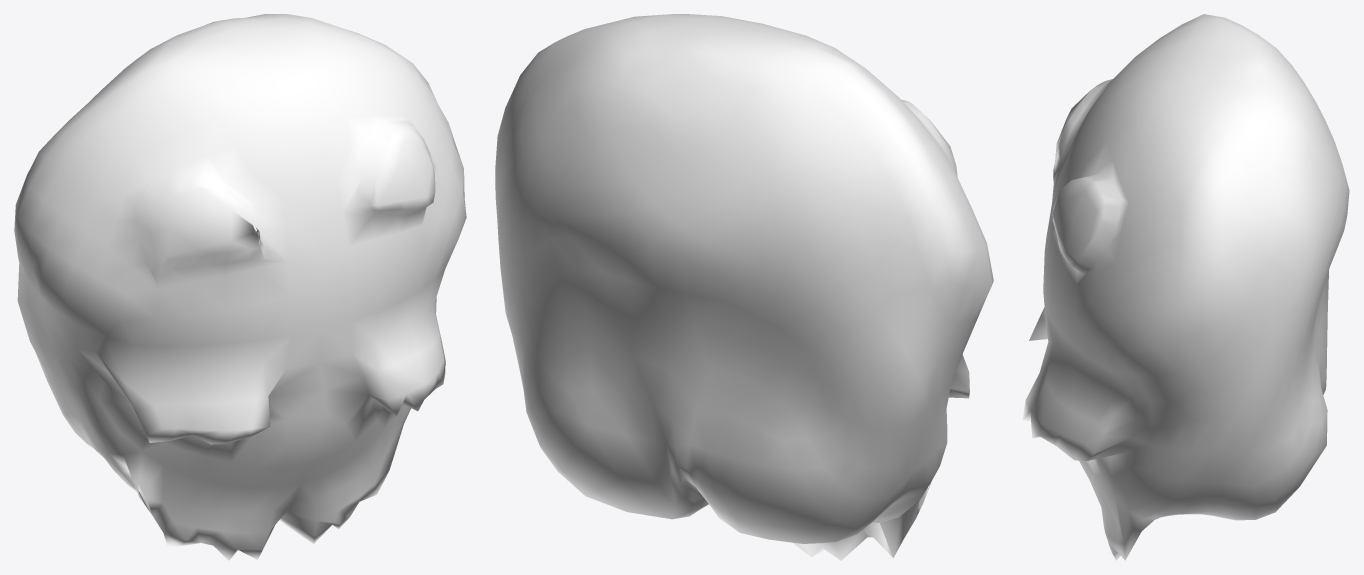
Rendered from ToyBlongi.fbx.
3 views of the same model, side by side, from view 1: azimuth 30°, elevation 25°; view 2: azimuth 150°, elevation 25°; view 3: azimuth 270°, elevation 25° (orthographic). The views are drawn at different scales.
Parts seen in each view (by area): view 1: Toy; view 2: Toy; view 3: Toy.
Part boxes in pixels (left/top/right/bottom): Toy: left=14, top=14, right=466, bottom=560; Toy: left=495, top=14, right=993, bottom=560; Toy: left=1022, top=14, right=1349, bottom=560.
Bounding box in the file's own units: 15.95 × 17.77 × 10.66.
1 material, 1 textured.
